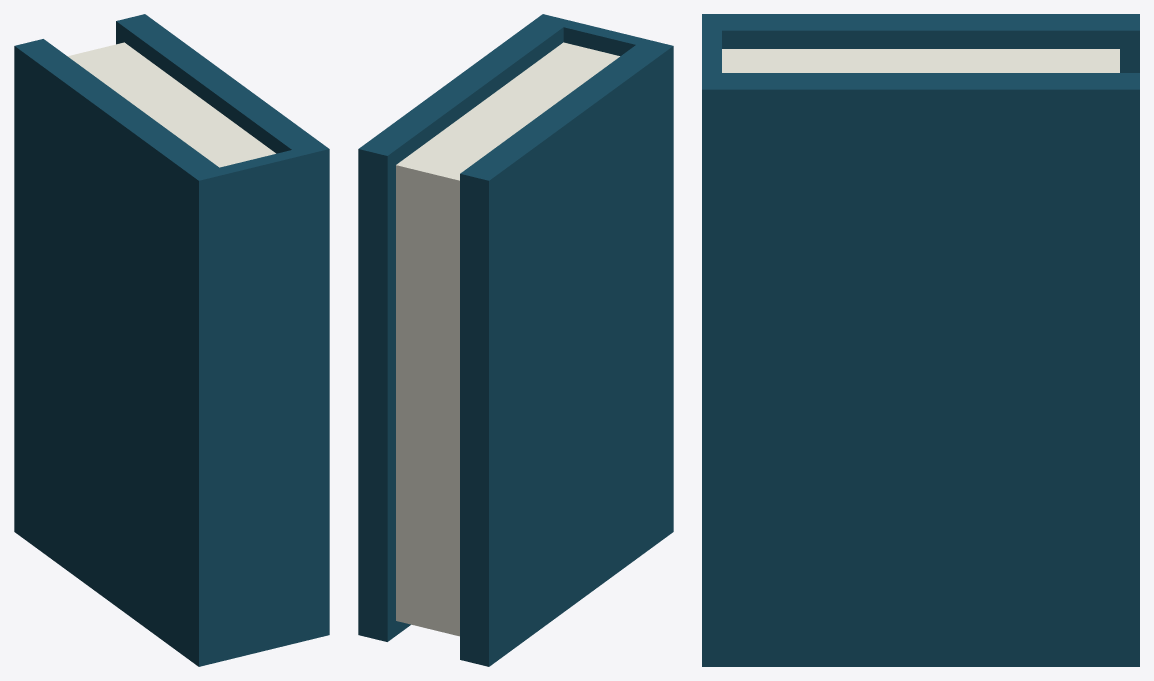
Rendered from Book_Dark.fbx.
3 views of the same model, side by side, from view 1: azimuth 30°, elevation 25°; view 2: azimuth 150°, elevation 25°; view 3: azimuth 270°, elevation 25° (orthographic). The views are drawn at different scales.
Parts seen in each view (by area): view 1: pCube1; view 2: pCube1; view 3: pCube1.
Part boxes in pixels (x1,y1,x2,y2): pCube1: [14, 14, 329, 666]; pCube1: [358, 14, 673, 666]; pCube1: [702, 14, 1139, 666].
Bounding box in the file's own units: 9 × 32 × 22.
